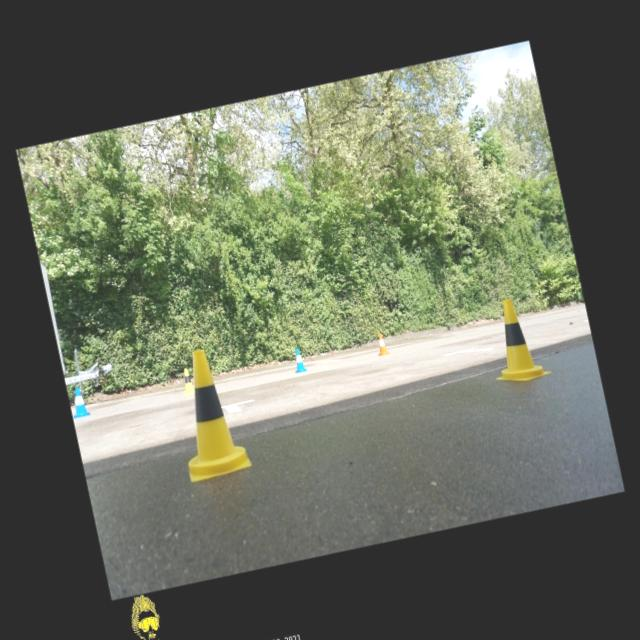blue_cone: (68, 386, 90, 418), (290, 346, 306, 373)
orange_cone: (374, 331, 389, 355)
yellow_cone: (165, 344, 252, 482), (479, 294, 552, 388), (178, 366, 194, 394)
